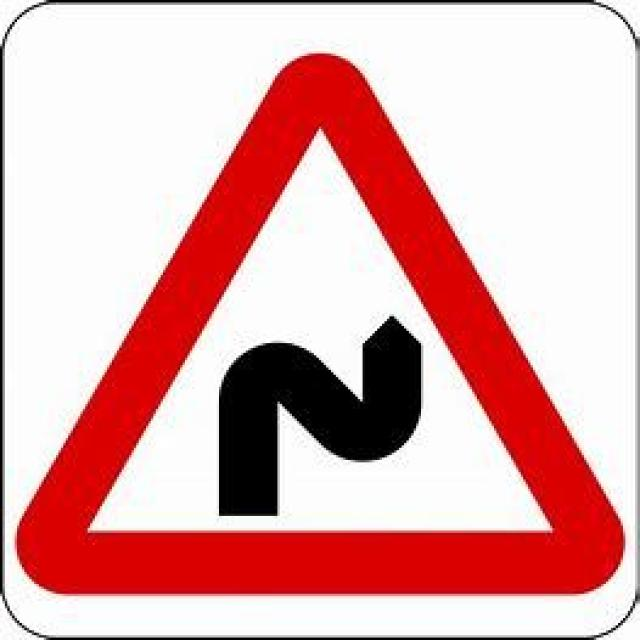RIGHT_REVERSE_BEND: (11, 50, 640, 610)
